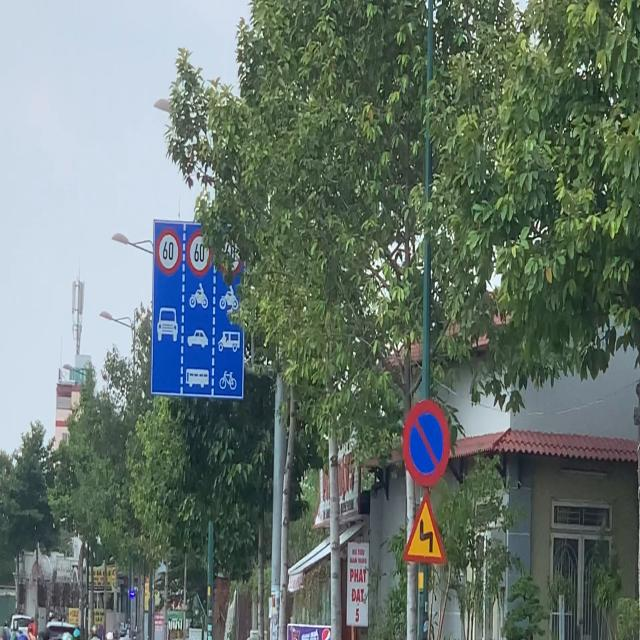Cam do: (402, 400, 451, 487)
Nguy hiem: (402, 489, 447, 564)
Toc do toi da: (186, 230, 212, 276), (156, 229, 182, 275)
